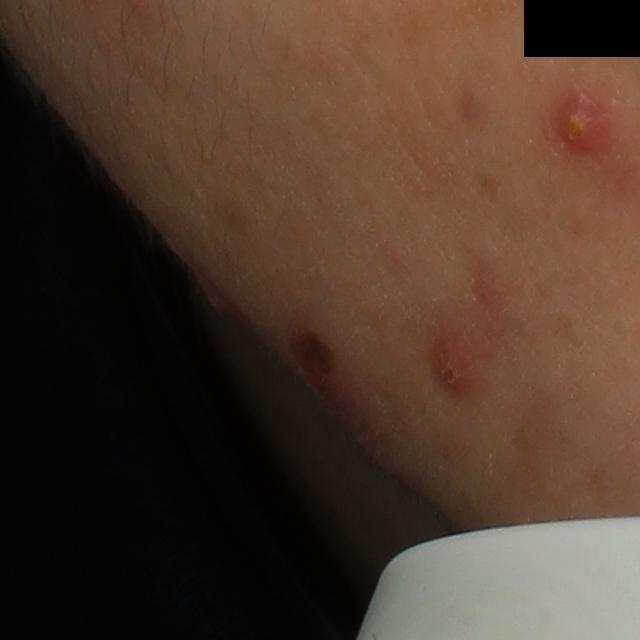pustule: (546, 83, 617, 157), (427, 329, 486, 404)
